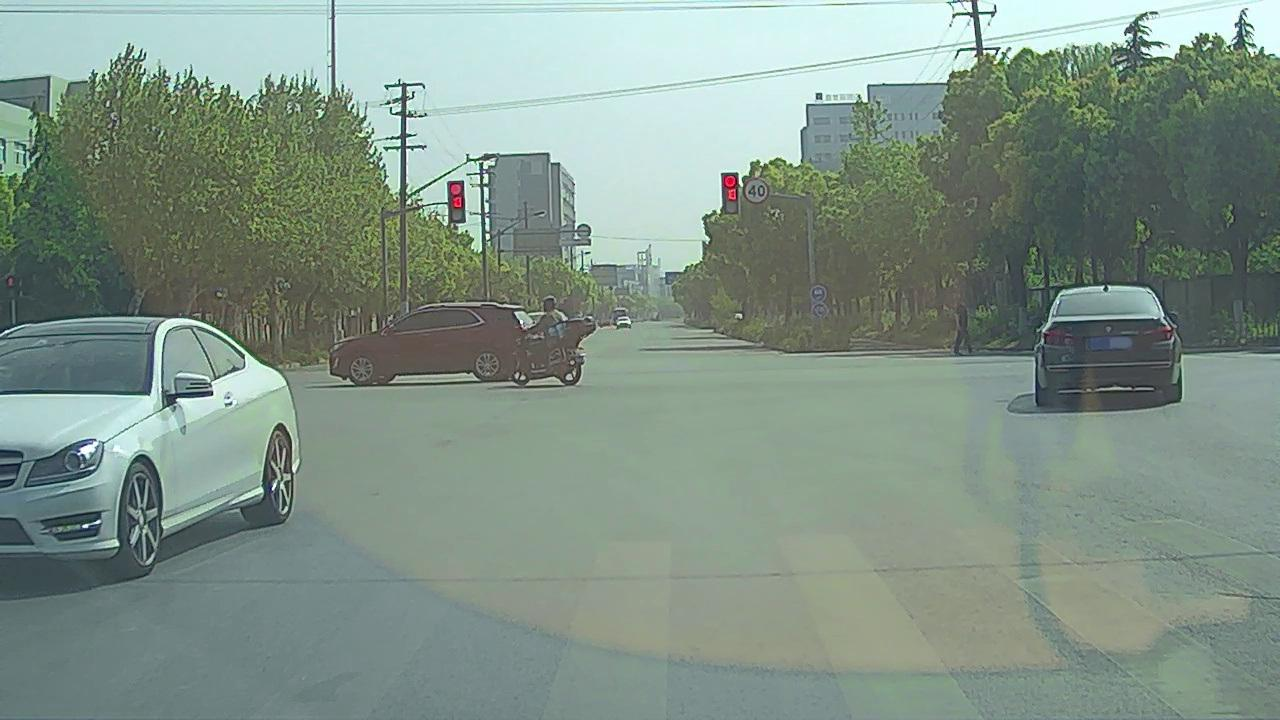traffic_light: (721, 171, 739, 215), (448, 181, 465, 222)
